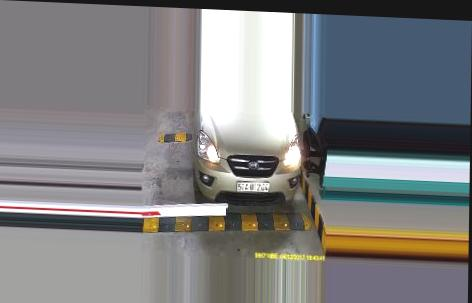License_Plate: (233, 178, 272, 196)
